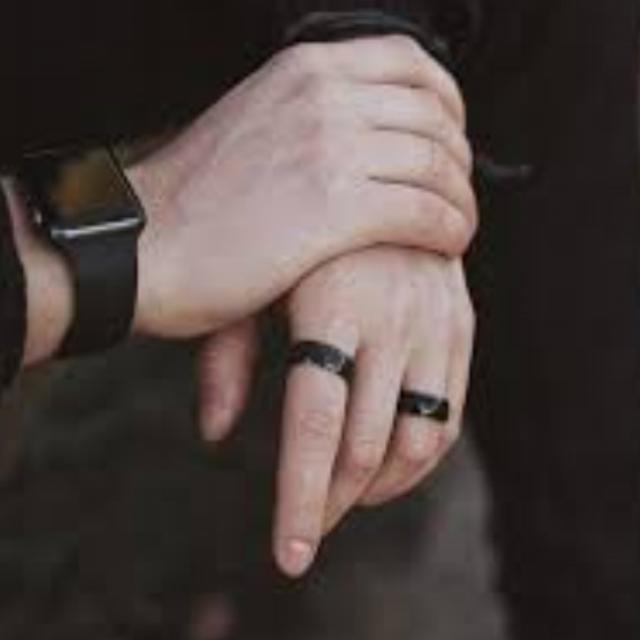Watch: (8, 130, 150, 353)
